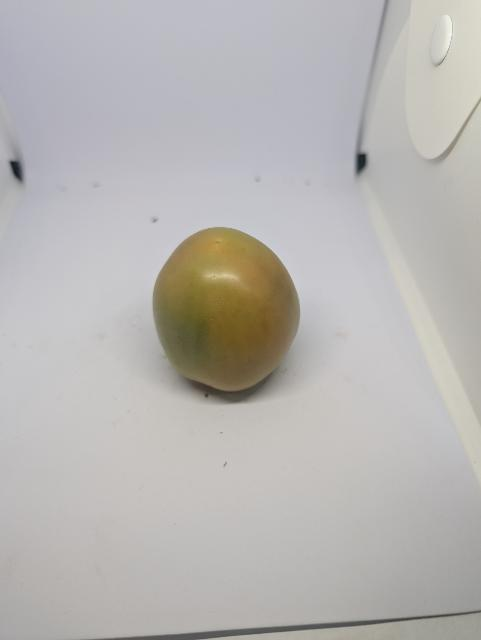breaker: (148, 223, 306, 397)
